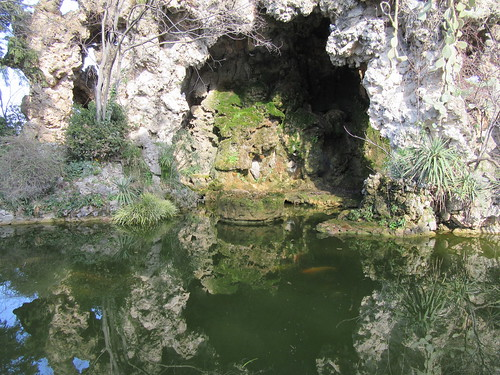river: (3, 222, 500, 375)
